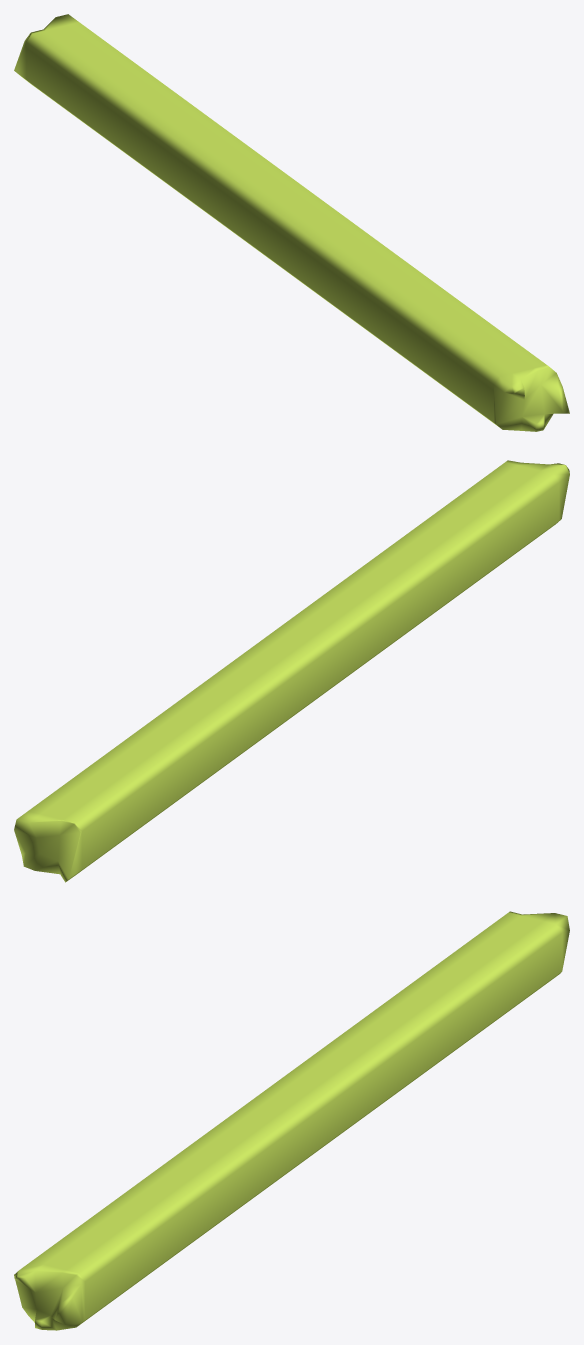
The model's file is Mode_Poutre.fbx.
3 views of the same model, one above another, from view 1: azimuth 30°, elevation 25°; view 2: azimuth 150°, elevation 25°; view 3: azimuth 330°, elevation 25° (orthographic).
Visible parts, largest first — view 1: poutre; view 2: poutre; view 3: poutre.
Part boxes in pixels (bbox=[...]): poutre: bbox=[14, 14, 569, 431]; poutre: bbox=[14, 460, 569, 882]; poutre: bbox=[14, 911, 569, 1330].
Bounding box in the file's own units: 63.2 × 52.2 × 917.
